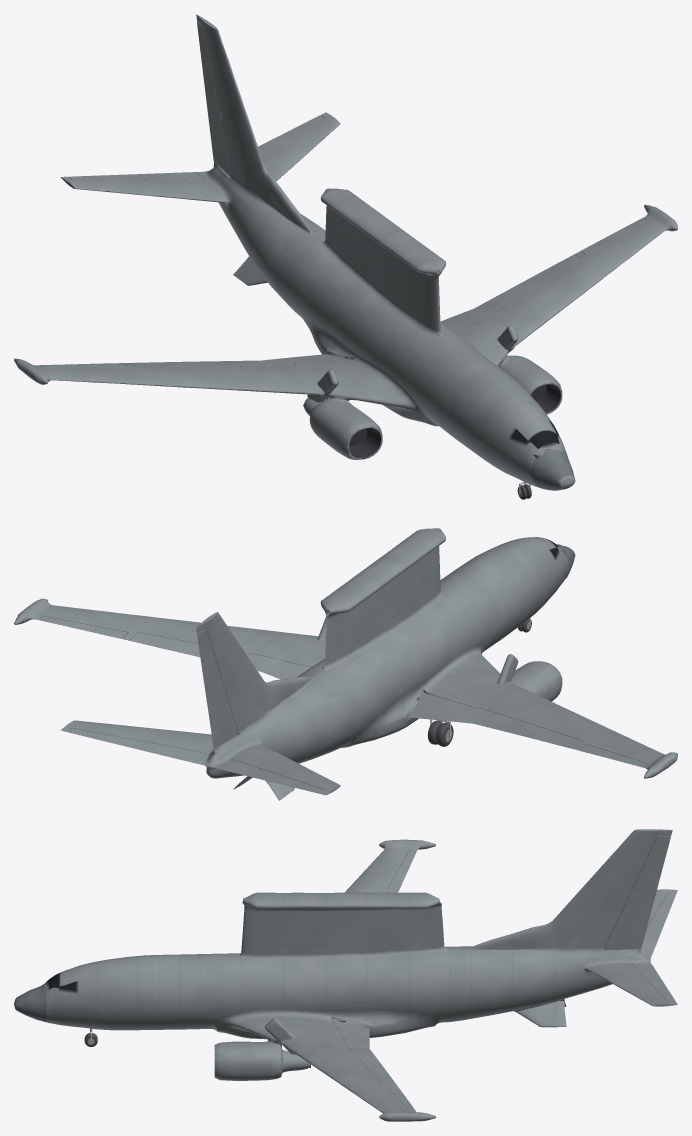
3 views of the same model, one above another, from view 1: azimuth 30°, elevation 25°; view 2: azimuth 150°, elevation 25°; view 3: azimuth 270°, elevation 25° (orthographic). The views are drawn at different scales.
Parts seen in each view (by area): view 1: airframe, fsim:flaps (×2), fsim:rudder, fsim:elevator; view 2: airframe, fsim:flaps (×2), fsim:rudder, fsim:elevator (×2), fsim:aileron (×2), fsim:wheel:2:0.565; view 3: airframe, fsim:rudder, fsim:elevator (×2), fsim:flaps.
Boxes of the visible parts, x1,y1,x2,y2 form: airframe: (14,14,677,490); fsim:flaps (×2): (129,254,581,366); fsim:rudder: (197,22,230,176); fsim:elevator: (68,172,204,179); airframe: (14,528,677,800); fsim:flaps (×2): (129,632,581,749); fsim:rudder: (197,629,238,748); fsim:elevator (×2): (68,728,324,793); fsim:aileron (×2): (39,616,646,767); fsim:wheel:2:0.565: (427,720,453,746); airframe: (14,829,677,1121); fsim:rudder: (604,836,670,950); fsim:elevator (×2): (632,893,676,1002); fsim:flaps: (331,1020,397,1085).
Size of the model in its own units: 34.56 by 12.59 by 35.09.
6 materials, 1 textured.
